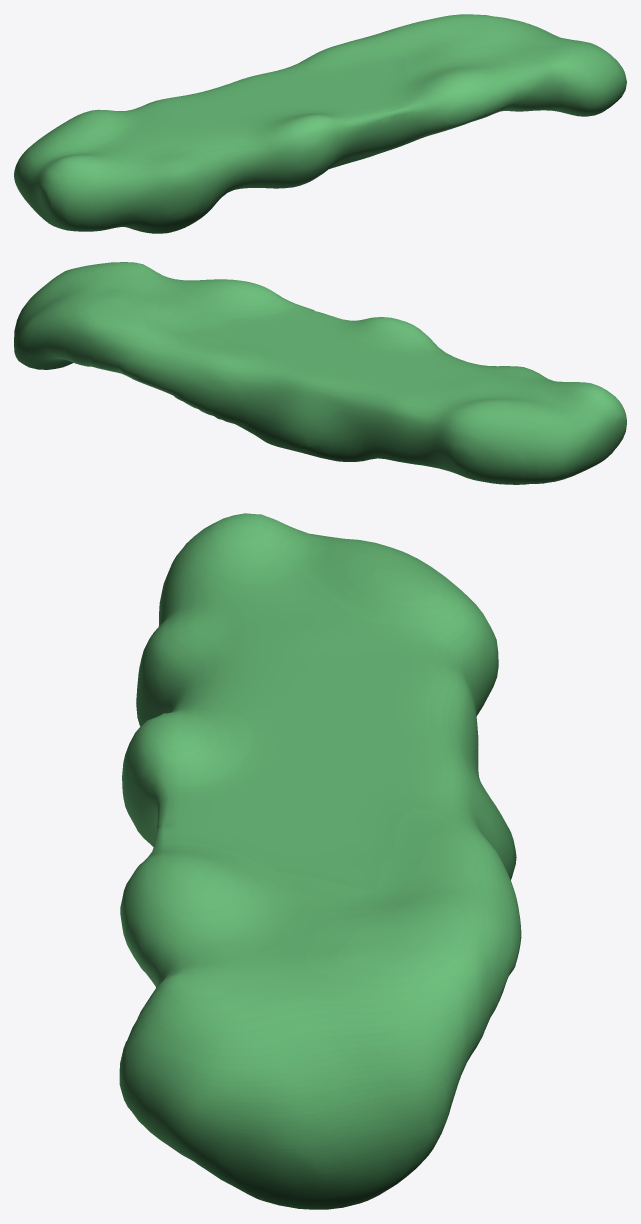
File: LeafPlatform1 G1.fbx
3 views of the same model, one above another, from view 1: azimuth 30°, elevation 25°; view 2: azimuth 150°, elevation 25°; view 3: azimuth 270°, elevation 25° (orthographic). The views are drawn at different scales.
Visible parts, largest first — view 1: Stump LeafPlatformB G1; view 2: Stump LeafPlatformB G1; view 3: Stump LeafPlatformB G1.
Boxes of the visible parts, box(x1,y1,x2,y2) form: Stump LeafPlatformB G1: box(14, 14, 626, 233); Stump LeafPlatformB G1: box(14, 262, 626, 484); Stump LeafPlatformB G1: box(119, 513, 521, 1209).
Bounding box in the file's own units: 8.18 × 2.44 × 1.32.
